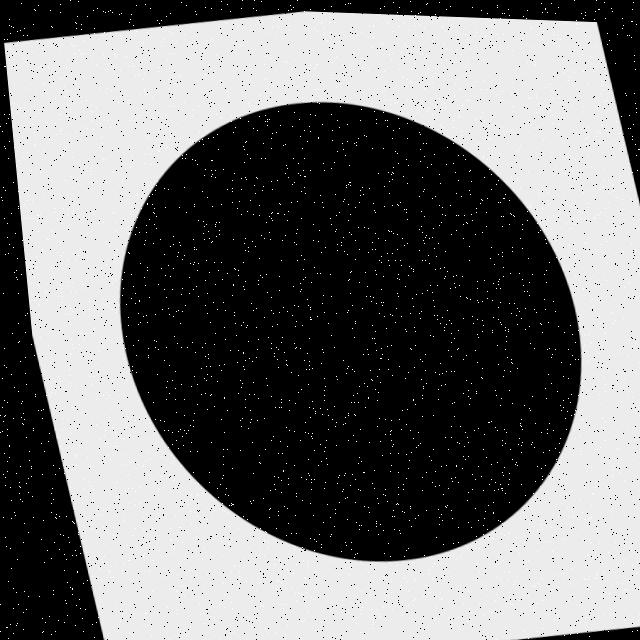CIRCLE: (114, 100, 574, 558)
